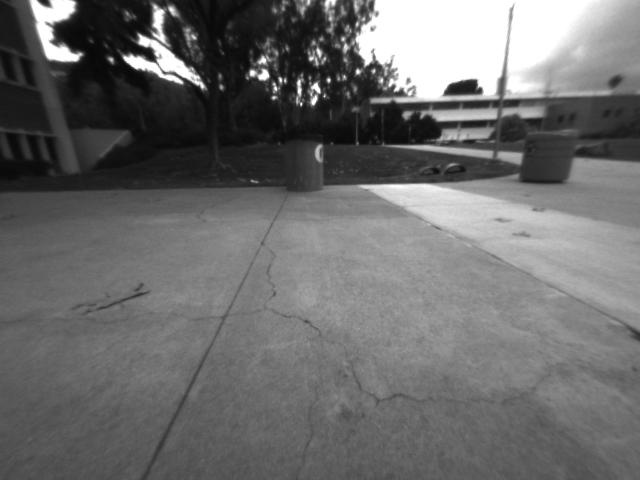trashcan: (523, 127, 576, 192), (280, 132, 338, 190)
